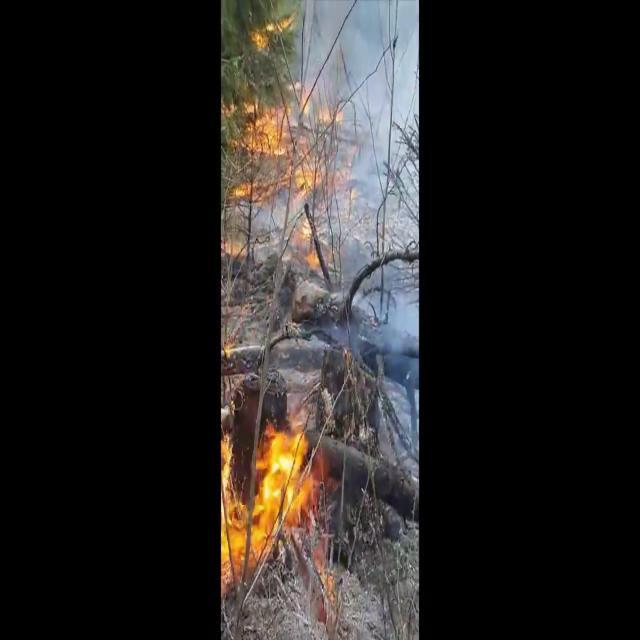Fire: (241, 0, 317, 247), (221, 415, 319, 578)
Smoke: (300, 2, 420, 292)
